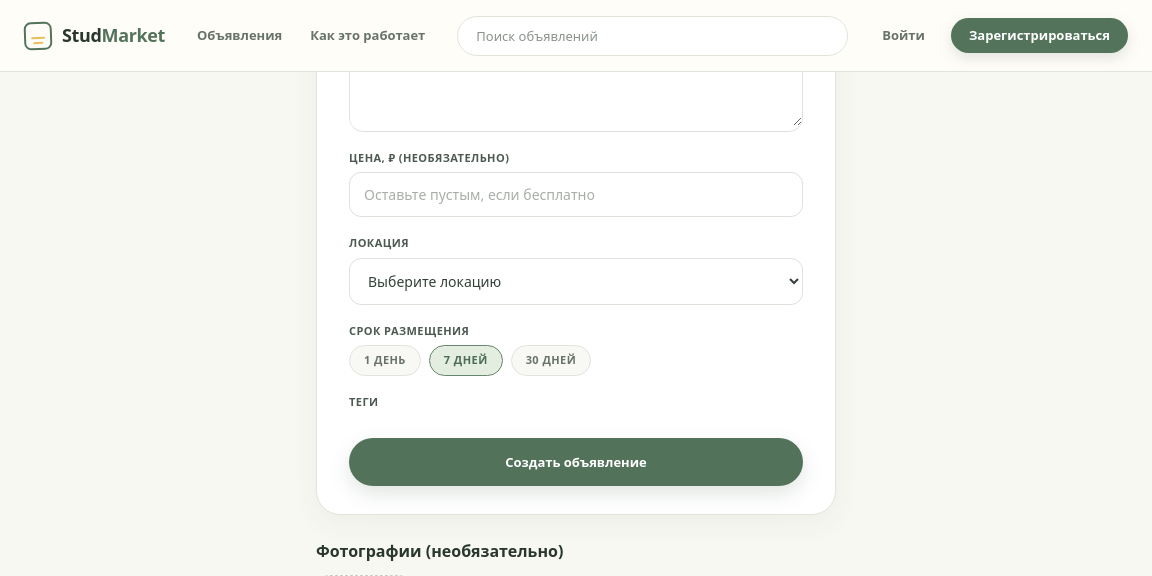
Test: ListingNewPage › shows a payment notice when the 30-day option is selected
(page scrolled)
Expected: the text "Размещение на 30 дней платное" is not shown
What coordinates should you click on to do the following:
click the radio button labelled "30 дней"
I would click on:
 (551, 360)
Its box is [511,345,591,376].
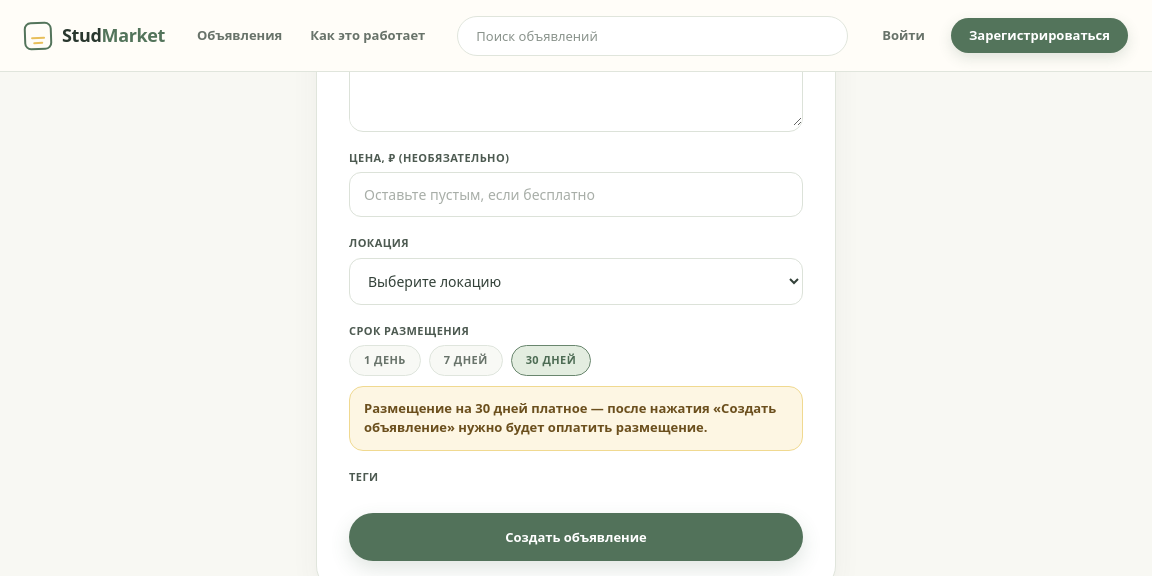
Result: the text "Размещение на 30 дней платное" is shown at [364,398,776,436]
